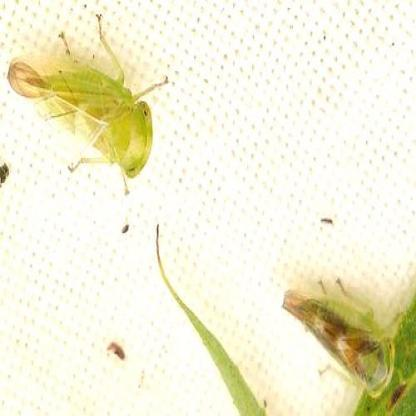green-leafhopper: (10, 20, 155, 192), (280, 272, 395, 401)
